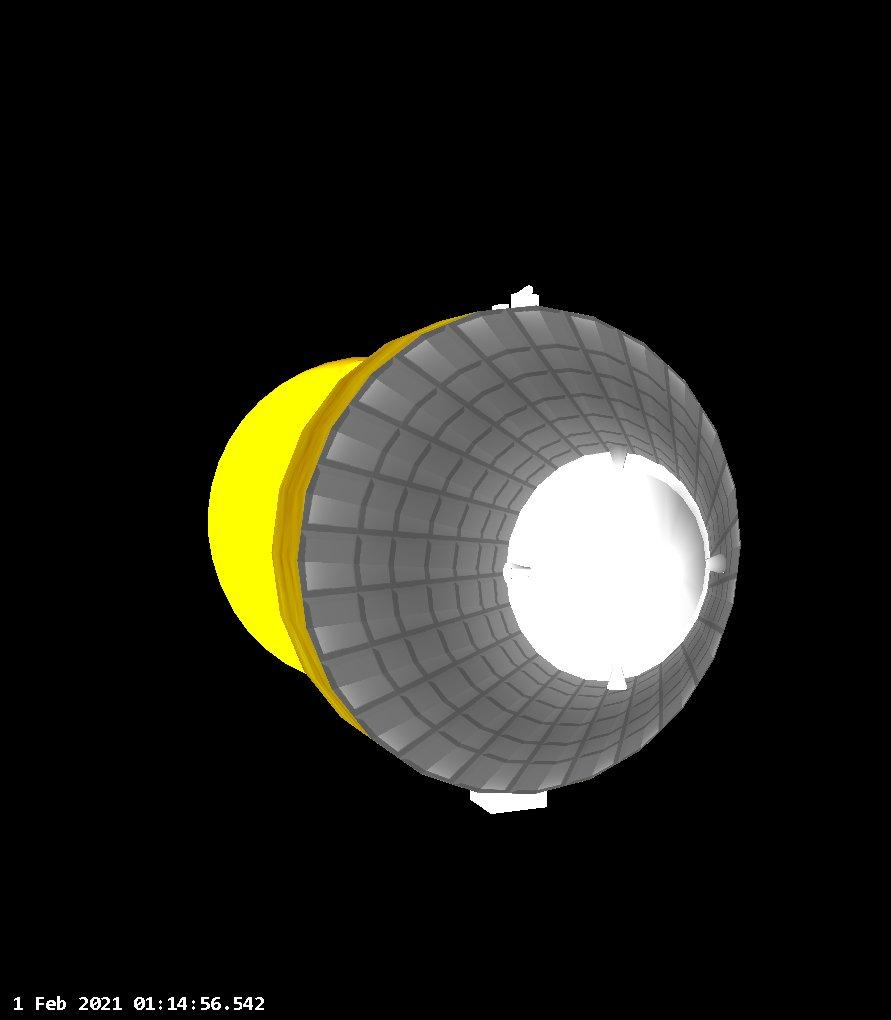body: (208, 305, 740, 792)
thruster: (501, 561, 534, 585), (606, 443, 631, 474), (606, 662, 630, 691), (704, 553, 728, 573)
